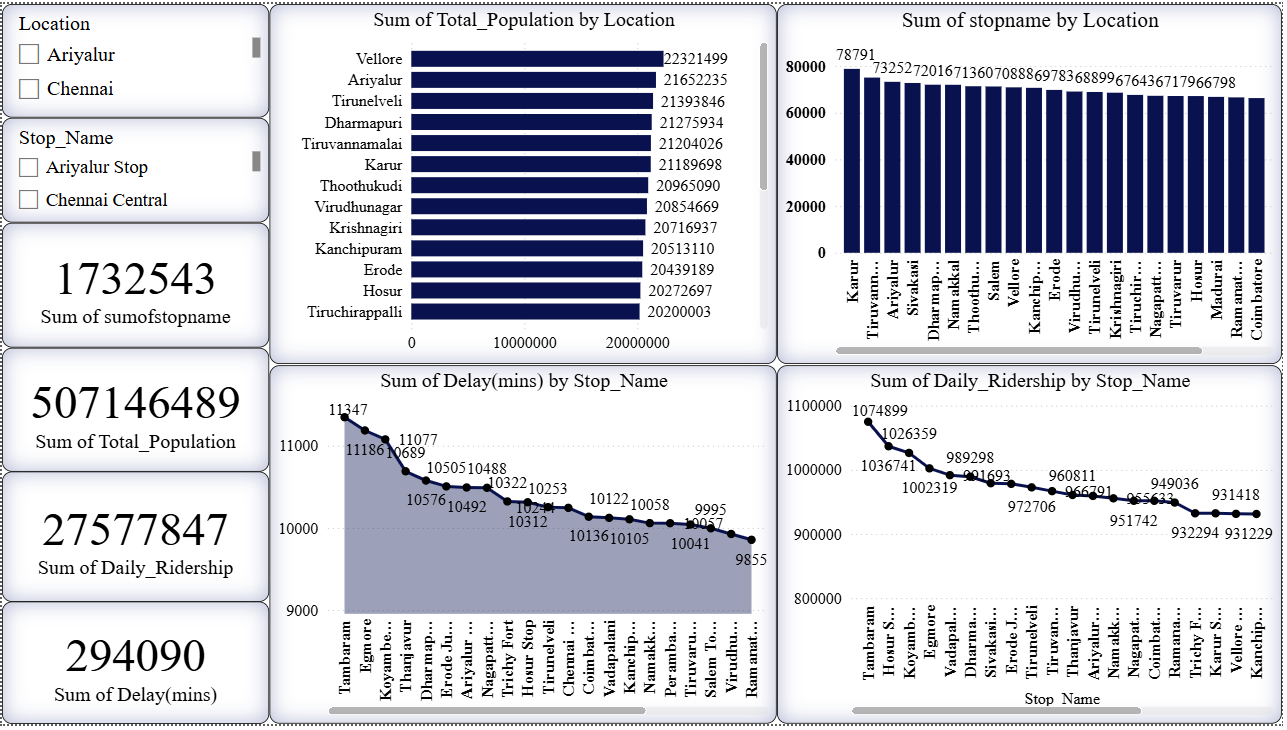

This screenshot's page, from the dashboard's own definition file:
{"tool":"powerbi","page":{"name":"Page 2","canvas":[1280,720],"ordinal":5},"visuals":[{"type":"barChart","fields":{"Y":["Sum(demographics1.Total_Population)"],"Category":["311_service_requests1.Location"]},"box":[267.5,0,507.5,360],"z":0},{"type":"columnChart","title":"Sum of stopname by Location","fields":{"Category":["311_service_requests1.Location"],"Y":["Sum(public_transport_usage1.sumofstopname)"]},"box":[775,0,505,360],"z":1000},{"type":"card","fields":{"Values":["Sum(demographics1.Total_Population)"]},"box":[0,343.8,267.5,123.8],"z":2000},{"type":"card","fields":{"Values":["Sum(public_transport_usage1.sumofstopname)"]},"box":[0,218.8,267.5,125],"z":3000},{"type":"lineChart","fields":{"Category":["public_transport_usage1.Stop_Name"],"Y":["Sum(public_transport_usage1.Daily_Ridership)"]},"box":[775,361.2,505,358.8],"z":4000},{"type":"areaChart","fields":{"Category":["public_transport_usage1.Stop_Name"],"Y":["Sum(public_transport_usage1.Delay(mins))"]},"box":[267.5,361.2,507.5,358.8],"z":5000},{"type":"card","fields":{"Values":["Sum(public_transport_usage1.Daily_Ridership)"]},"box":[0,467.5,267.5,130],"z":6000},{"type":"card","fields":{"Values":["Sum(public_transport_usage1.Delay(mins))"]},"box":[0,597.5,267.5,122.5],"z":7000},{"type":"slicer","fields":{"Values":["311_service_requests1.Location"]},"box":[0,0,267.5,113.8],"z":8000},{"type":"slicer","fields":{"Values":["public_transport_usage1.Stop_Name"]},"box":[0,113.8,267.5,105],"z":9000}]}

Visuals, with their boxes in screenshot pixels (x1, y1, x2, y2), scaled from the page's 1280x720 canvas onto the 1287x730 screenshot:
barChart - Sum(demographics1.Total_Population) x 311_service_requests1.Location: bbox=(269, 0, 779, 365)
"Sum of stopname by Location" columnChart: bbox=(779, 0, 1286, 365)
card - Sum(demographics1.Total_Population): bbox=(0, 349, 269, 474)
card - Sum(public_transport_usage1.sumofstopname): bbox=(0, 222, 269, 349)
lineChart - public_transport_usage1.Stop_Name x Sum(public_transport_usage1.Daily_Ridership): bbox=(779, 366, 1286, 729)
areaChart - public_transport_usage1.Stop_Name x Sum(public_transport_usage1.Delay(mins)): bbox=(269, 366, 779, 729)
card - Sum(public_transport_usage1.Daily_Ridership): bbox=(0, 474, 269, 606)
card - Sum(public_transport_usage1.Delay(mins)): bbox=(0, 606, 269, 729)
slicer - 311_service_requests1.Location: bbox=(0, 0, 269, 115)
slicer - public_transport_usage1.Stop_Name: bbox=(0, 115, 269, 222)
